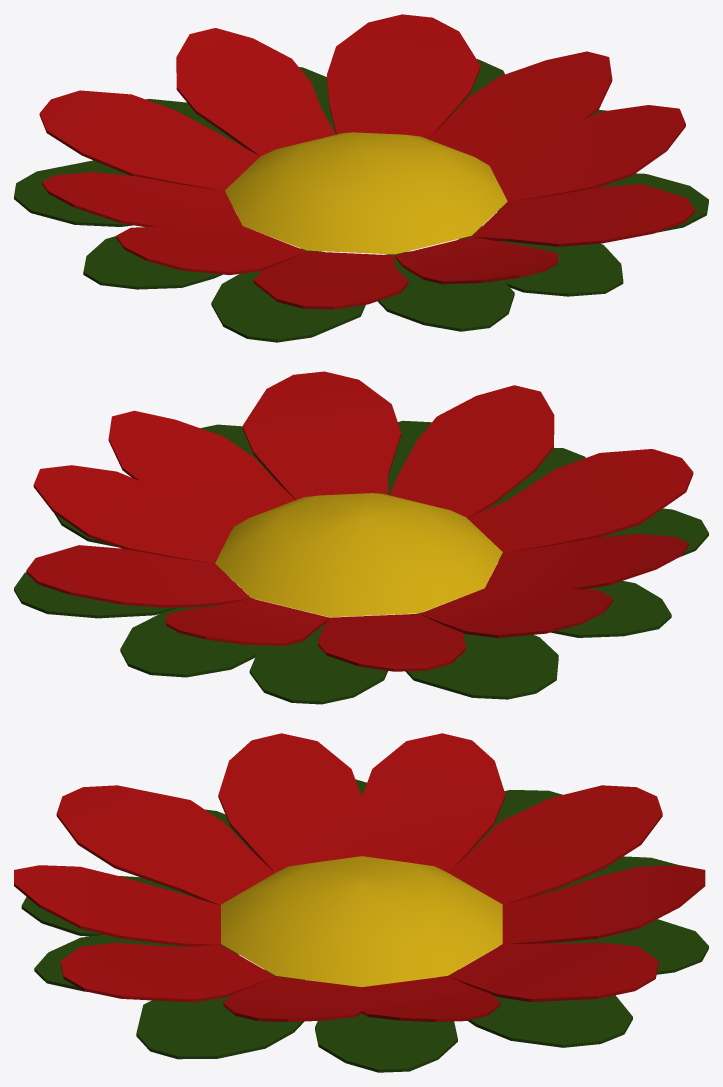
File: flower3_short.FBX
The picture shows the model from 3 angles, top to bottom: view 1: azimuth 30°, elevation 25°; view 2: azimuth 150°, elevation 25°; view 3: azimuth 270°, elevation 25°; orthographic projection. The views are drawn at different scales.
Parts seen in each view (by area): view 1: flowerRed; view 2: flowerRed; view 3: flowerRed.
Boxes of the visible parts, x1=… form: flowerRed: x1=14, y1=14, x2=708, y2=342; flowerRed: x1=14, y1=371, x2=708, y2=704; flowerRed: x1=14, y1=733, x2=708, y2=1072.
Size of the model in its own units: 23.33 by 1.95 by 23.45.
